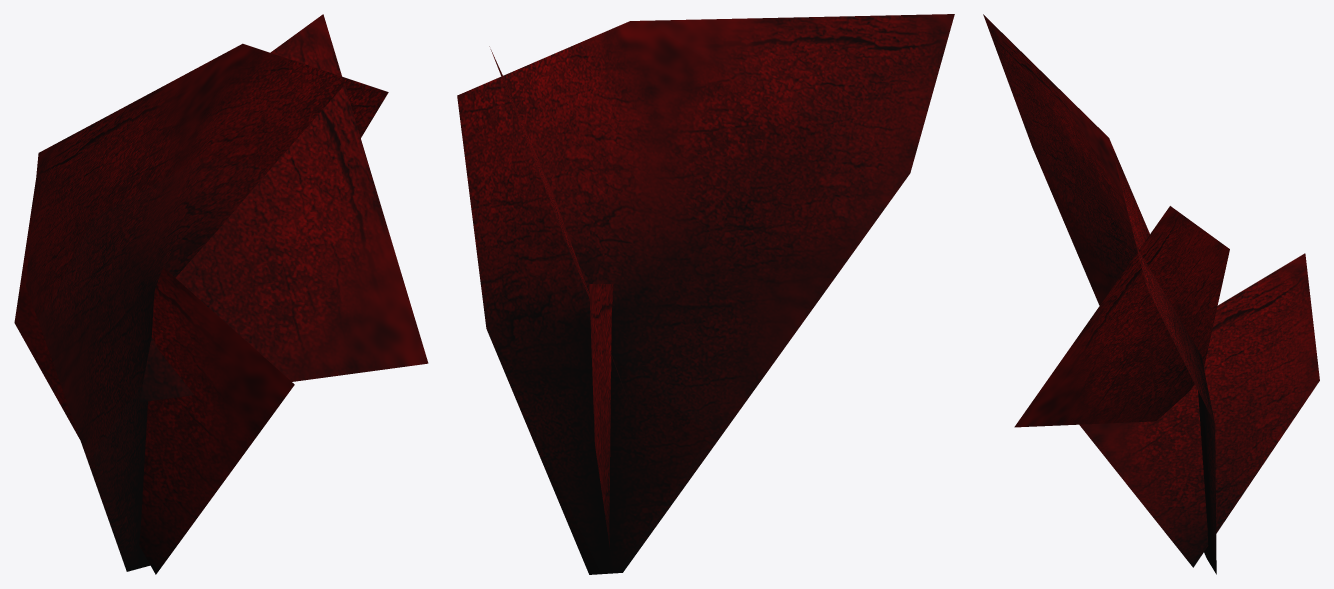
The model's file is TreeSmall1.glb.
3 renders of one model, left to right at view 1: azimuth 30°, elevation 25°; view 2: azimuth 150°, elevation 25°; view 3: azimuth 270°, elevation 25°, orthographic. The views are drawn at different scales.
Parts seen in each view (by area): view 1: TreeSmall1; view 2: TreeSmall1; view 3: TreeSmall1.
Part boxes in pixels (x1=…): TreeSmall1: x1=14, y1=14, x2=428, y2=574; TreeSmall1: x1=457, y1=14, x2=954, y2=574; TreeSmall1: x1=983, y1=14, x2=1319, y2=574.
Bounding box in the file's own units: 0.8794 × 1.08 × 0.7173.
1 material, 1 textured.
